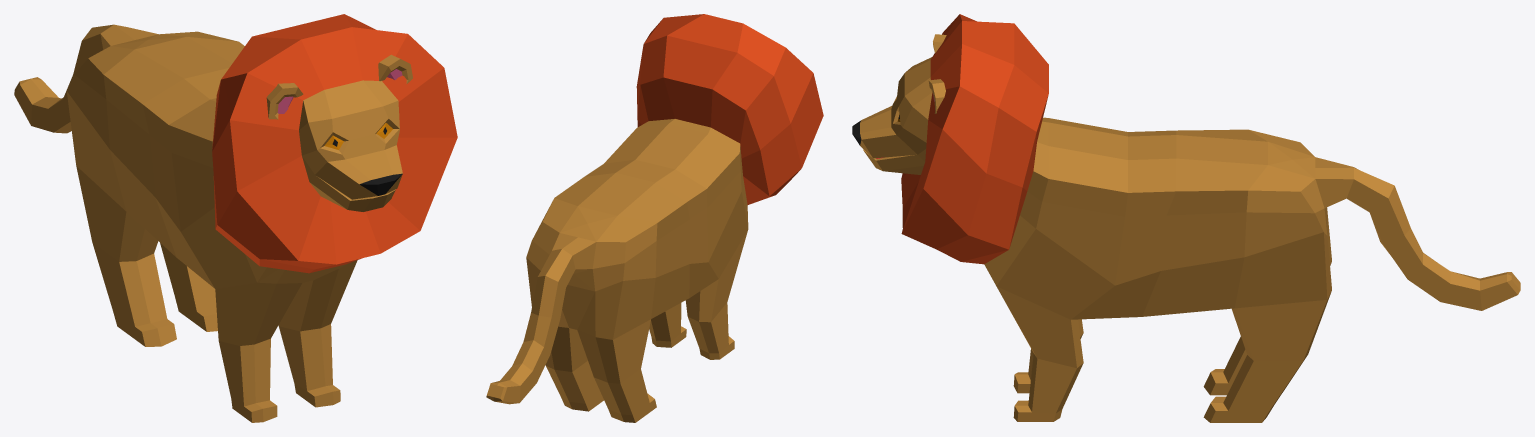
The model's file is lion.glb.
3 views of the same model, side by side, from view 1: azimuth 30°, elevation 25°; view 2: azimuth 150°, elevation 25°; view 3: azimuth 270°, elevation 25° (orthographic). The views are drawn at different scales.
Parts seen in each view (by area): view 1: Lion_01_Circle.005; view 2: Lion_01_Circle.005; view 3: Lion_01_Circle.005.
Part boxes in pixels (left/top/right/bottom): Lion_01_Circle.005: left=14, top=14, right=457, bottom=422; Lion_01_Circle.005: left=486, top=14, right=823, bottom=422; Lion_01_Circle.005: left=852, top=14, right=1520, bottom=422.
Bounding box in the file's own units: 5.04 × 8.75 × 14.34.
